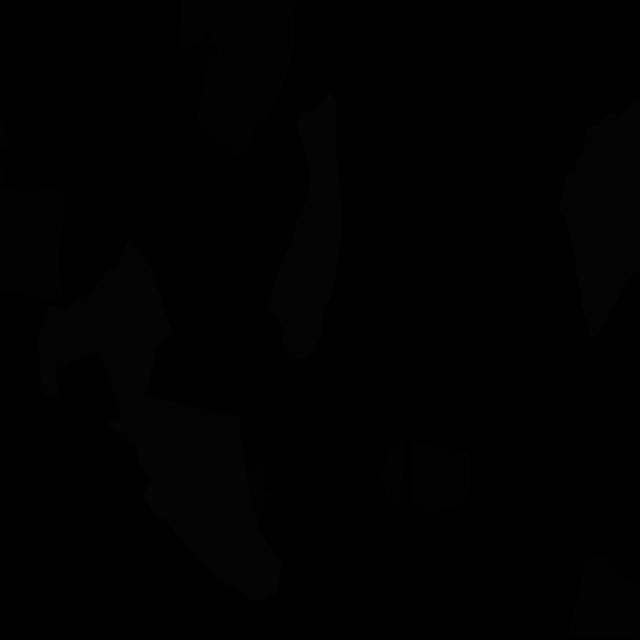cardboard: (180, 0, 296, 156), (0, 185, 66, 302), (568, 555, 640, 639), (411, 441, 470, 513), (380, 437, 405, 505), (246, 460, 272, 521), (0, 116, 10, 185)
soft_plastic: (37, 239, 283, 601), (267, 93, 342, 359), (558, 98, 640, 339)
